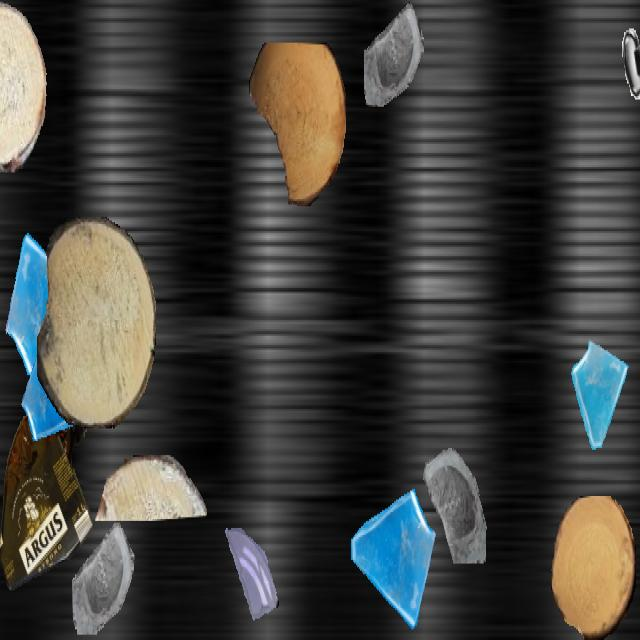glass: (3, 220, 95, 384), (347, 478, 437, 638), (413, 426, 489, 562), (568, 338, 632, 452), (21, 338, 85, 452), (72, 523, 134, 633), (364, 2, 424, 108), (222, 524, 280, 628)
metal: (615, 2, 640, 112), (623, 91, 640, 176), (0, 190, 13, 258)
plastic: (0, 398, 93, 590)
wood: (37, 217, 155, 427), (249, 43, 345, 206), (551, 496, 635, 638), (0, 2, 47, 172), (93, 455, 207, 519)
